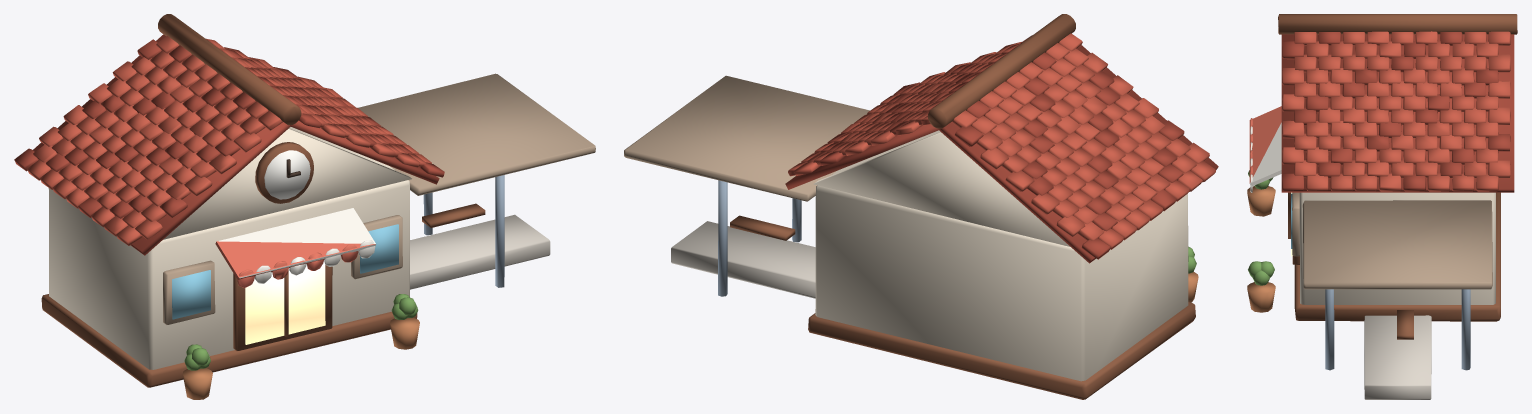
File: station.glb
The picture shows the model from 3 angles, left to right: view 1: azimuth 30°, elevation 25°; view 2: azimuth 150°, elevation 25°; view 3: azimuth 270°, elevation 25°; orthographic projection. The views are drawn at different scales.
Visible parts, largest first — view 1: station; view 2: station; view 3: station.
Boxes of the visible parts, left/top/right/bottom form: station: left=14, top=14, right=595, bottom=399; station: left=624, top=14, right=1218, bottom=399; station: left=1247, top=14, right=1517, bottom=399.
Size of the model in its own units: 3.43 by 1.78 by 1.78.
